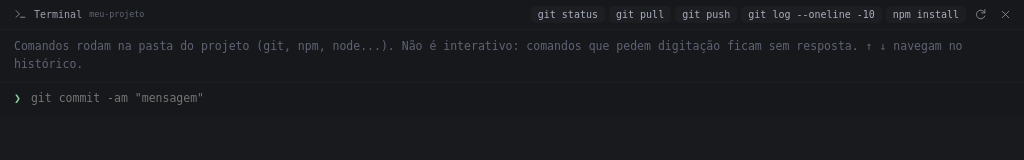
it: Terminal › executa o comando digitado, mostra a saída e avisa mudanças
This screenshot has width=1024, height=160.
Type "git status" into the field named "Comando do terminal".
click(519, 98); type("git status")  # box [29,89,1010,108]
Then press Enter
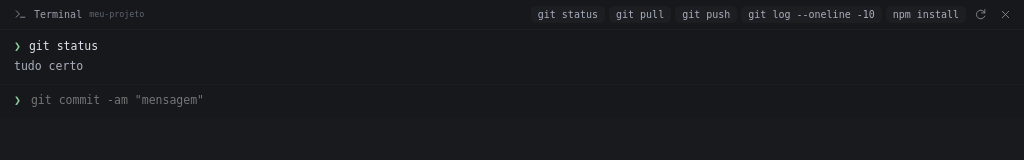
Check: the text "tudo certo" is shown, box [14,59,83,73]
